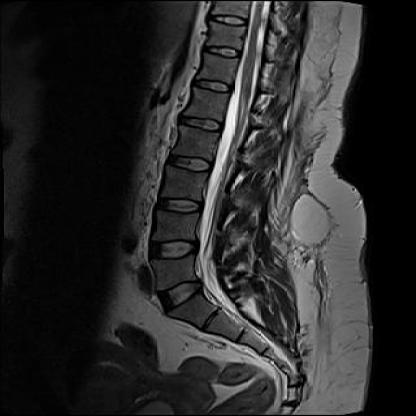Disc Bulgerotation: (153, 279, 210, 309)
